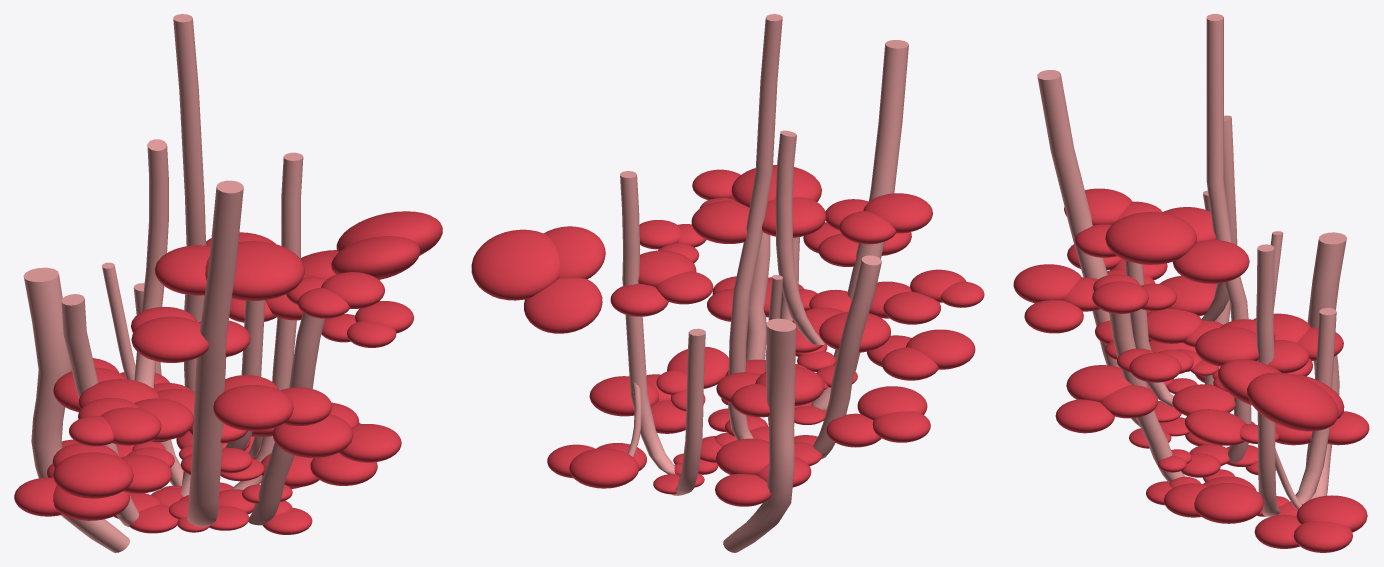
3 renders of one model, left to right at view 1: azimuth 30°, elevation 25°; view 2: azimuth 150°, elevation 25°; view 3: azimuth 270°, elevation 25°, orthographic. The views are drawn at different scales.
Parts seen in each view (by area): view 1: Cylinder003, Cylinder001, Cylinder005, Cylinder007, Cylinder010, Sphere__30_, Cylinder008, Sphere__36_, Sphere__15_, Sphere__27_, Sphere__26_, Cylinder002 (+35 smaller); view 2: Cylinder005, Cylinder001, Sphere__24_, Cylinder003, Cylinder007, Cylinder002, Cylinder010, Sphere__25_, Cylinder006, Sphere__26_, Sphere, Sphere__31_ (+34 smaller); view 3: Cylinder005, Cylinder003, Sphere__24_, Cylinder007, Sphere__30_, Cylinder001, Cylinder006, Sphere__31_, Sphere__6_, Cylinder008, Sphere__15_, Sphere__18_ (+31 smaller).
Part boxes in pixels (<box>): Cylinder003: <box>187,180,243,526</box>; Cylinder001: <box>23,267,129,552</box>; Cylinder005: <box>173,14,206,496</box>; Cylinder007: <box>232,152,303,489</box>; Cylinder010: <box>134,139,168,388</box>; Sphere__30_: <box>205,241,304,300</box>; Cylinder008: <box>248,312,325,525</box>; Sphere__36_: <box>53,452,133,498</box>; Sphere__15_: <box>213,384,293,431</box>; Sphere__27_: <box>131,316,209,362</box>; Sphere__26_: <box>331,236,420,279</box>; Cylinder002: <box>61,294,139,526</box>; Cylinder005: <box>728,14,782,439</box>; Cylinder001: <box>723,318,796,552</box>; Sphere__24_: <box>471,229,560,300</box>; Cylinder003: <box>811,40,908,410</box>; Cylinder007: <box>620,171,675,474</box>; Cylinder002: <box>813,255,881,458</box>; Cylinder010: <box>775,130,824,345</box>; Sphere__25_: <box>524,278,602,333</box>; Cylinder006: <box>671,328,705,495</box>; Sphere__26_: <box>544,226,605,279</box>; Sphere: <box>569,448,638,488</box>; Sphere__31_: <box>691,200,749,243</box>; Cylinder005: <box>1206,14,1251,462</box>; Cylinder003: <box>1037,70,1139,426</box>; Sphere__24_: <box>1247,372,1338,431</box>; Cylinder007: <box>1256,244,1280,516</box>; Sphere__30_: <box>1105,212,1196,264</box>; Cylinder001: <box>1305,232,1346,499</box>; Cylinder006: <box>1290,308,1336,503</box>; Sphere__31_: <box>1172,239,1249,283</box>; Sphere__6_: <box>1194,483,1263,523</box>; Cylinder008: <box>1109,312,1184,481</box>; Sphere__15_: <box>1013,264,1081,303</box>; Sphere__18_: <box>1195,326,1258,366</box>.
Size of the model in its own units: 1927 by 2223 by 1426.
